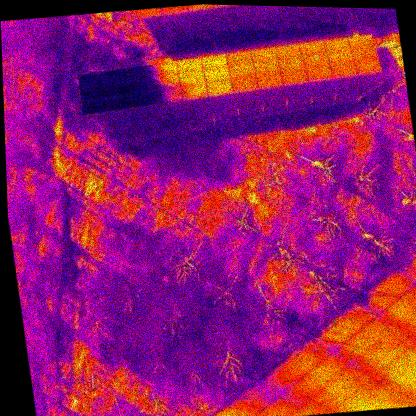Hotspot: (228, 62, 255, 80), (253, 60, 281, 76), (303, 53, 329, 70)
Normal: (180, 82, 208, 102), (281, 68, 308, 87), (203, 65, 230, 84), (230, 75, 258, 93), (330, 61, 358, 79), (354, 58, 382, 76), (256, 72, 283, 90), (226, 49, 253, 67), (323, 37, 350, 55), (298, 40, 326, 57), (206, 79, 232, 97), (305, 66, 334, 82), (277, 55, 304, 72), (200, 53, 227, 70), (250, 46, 278, 62), (180, 69, 206, 86), (327, 50, 354, 66), (274, 44, 301, 60), (348, 35, 374, 51), (351, 48, 378, 63), (177, 56, 201, 71)
Shadow: (130, 87, 161, 107), (104, 94, 134, 113), (180, 82, 208, 102), (127, 74, 158, 92), (102, 80, 131, 98), (100, 65, 127, 84), (79, 83, 105, 101), (127, 61, 156, 77), (155, 71, 180, 89), (158, 85, 184, 102), (81, 97, 106, 114), (77, 72, 103, 85), (154, 60, 179, 73)
